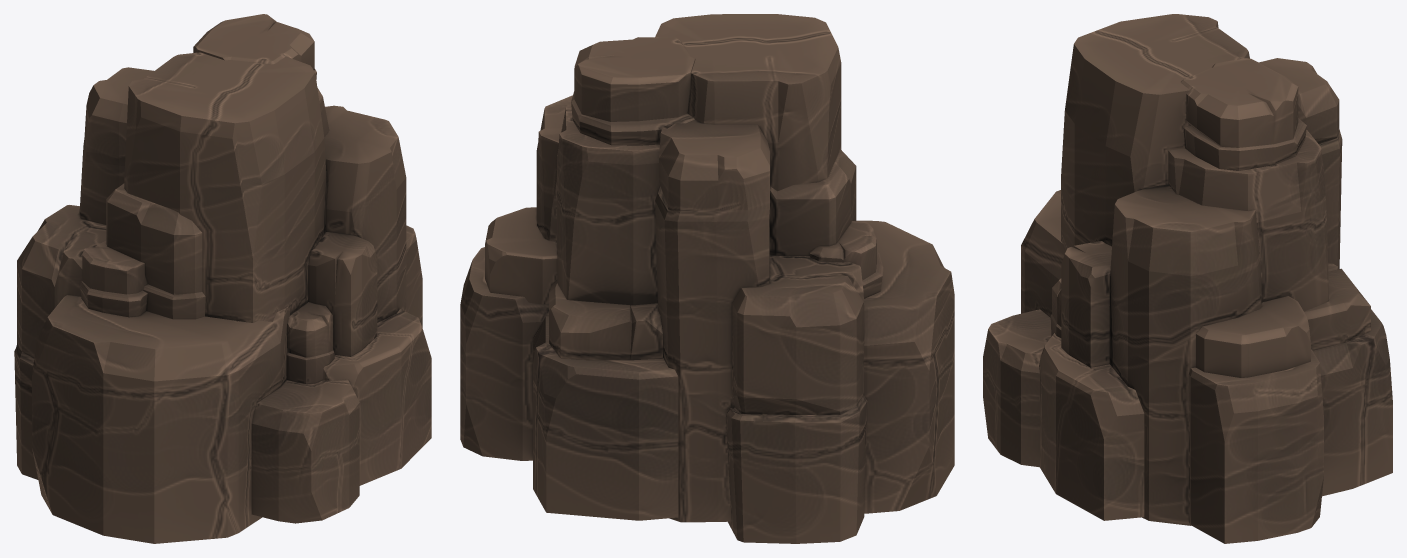
The model's file is Lava-MedRock-001.fbx.
3 views of the same model, side by side, from view 1: azimuth 30°, elevation 25°; view 2: azimuth 150°, elevation 25°; view 3: azimuth 270°, elevation 25° (orthographic). The views are drawn at different scales.
Visible parts, largest first — view 1: Lava-MedRock-001; view 2: Lava-MedRock-001; view 3: Lava-MedRock-001.
Boxes of the visible parts, x1,y1,x2,y2 form: Lava-MedRock-001: (14,14,431,543); Lava-MedRock-001: (460,14,954,543); Lava-MedRock-001: (983,14,1392,543).
Bounding box in the file's own units: 2023 × 1841 × 1728.
